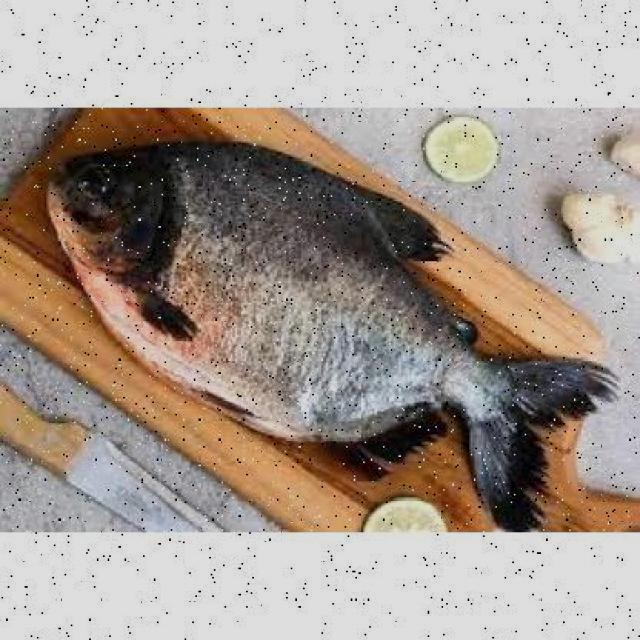ikan-pacu: (48, 136, 546, 487)
